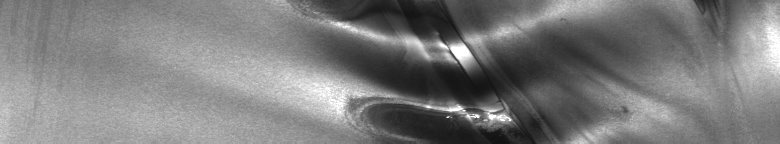ke: (320, 12, 520, 136)
